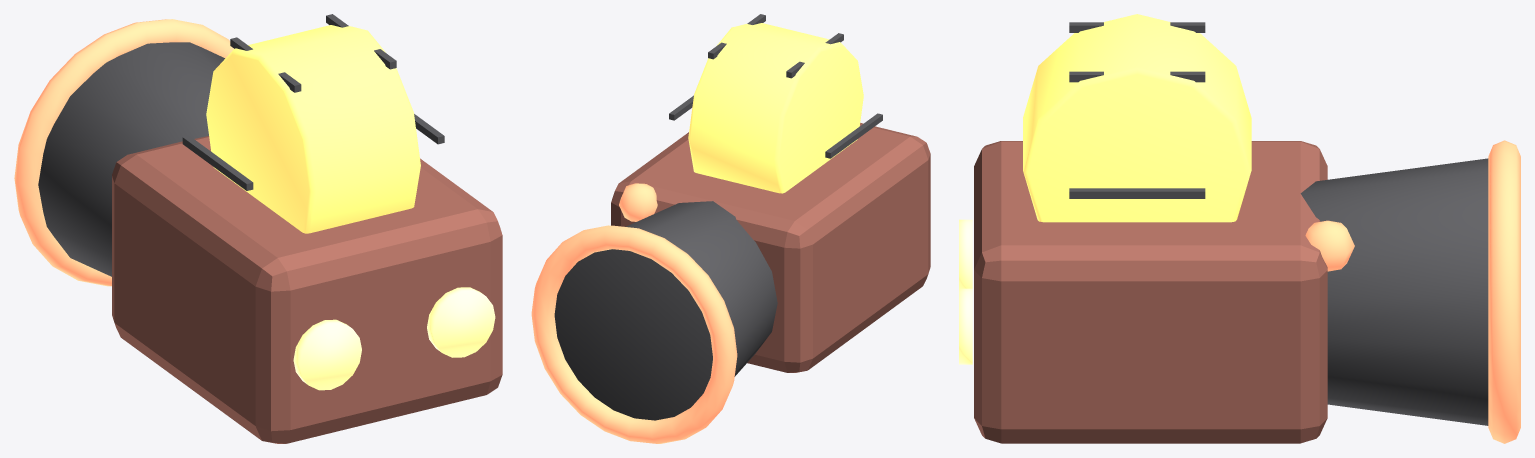
File: netzwerfer.glb
The picture shows the model from 3 angles, left to right: view 1: azimuth 30°, elevation 25°; view 2: azimuth 150°, elevation 25°; view 3: azimuth 270°, elevation 25°; orthographic projection. The views are drawn at different scales.
Visible parts, largest first — view 1: Rumpf.002, Trommel, Rohr, Muendung, Duese-1.003, Duese1.003, Netzfaden3; view 2: Rumpf.002, Rohr, Trommel, Muendung, Auge.001, Netzfaden3; view 3: Rumpf.002, Rohr, Trommel, Muendung, Auge.001, Netzfaden0, Duese1.003, Duese-1.003, Netzfaden1, Netzfaden2.
Boxes of the visible parts, box(x1,y1,x2,y2) form: Rumpf.002: box(112, 136, 502, 443); Trommel: box(206, 25, 420, 233); Rohr: box(38, 42, 224, 276); Muendung: box(14, 19, 233, 286); Duese-1.003: box(293, 319, 361, 390); Duese1.003: box(427, 287, 495, 357); Netzfaden3: box(182, 135, 253, 190); Rumpf.002: box(611, 123, 930, 372); Rohr: box(554, 201, 777, 420); Trommel: box(688, 23, 863, 193); Muendung: box(531, 225, 737, 443); Auge.001: box(619, 183, 657, 221); Netzfaden3: box(825, 113, 882, 158); Rumpf.002: box(974, 141, 1327, 443); Rohr: box(1300, 158, 1488, 425); Trommel: box(1023, 14, 1251, 222); Muendung: box(1488, 140, 1520, 443); Auge.001: box(1305, 220, 1354, 271); Netzfaden0: box(1069, 188, 1205, 198); Duese1.003: box(959, 288, 972, 364); Duese-1.003: box(959, 219, 972, 288); Netzfaden1: box(1069, 71, 1205, 82); Netzfaden2: box(1069, 22, 1205, 32).
Bounding box in the file's own units: 1.12 × 1.58 × 2.07.
